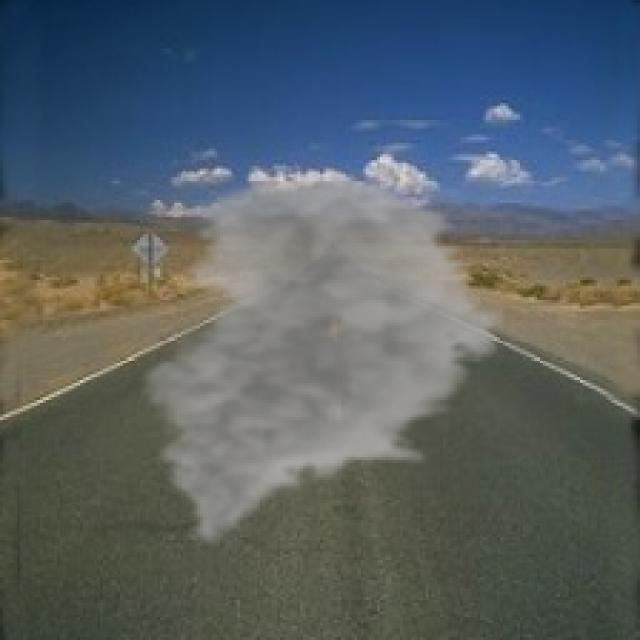smoke: (132, 168, 514, 548)
